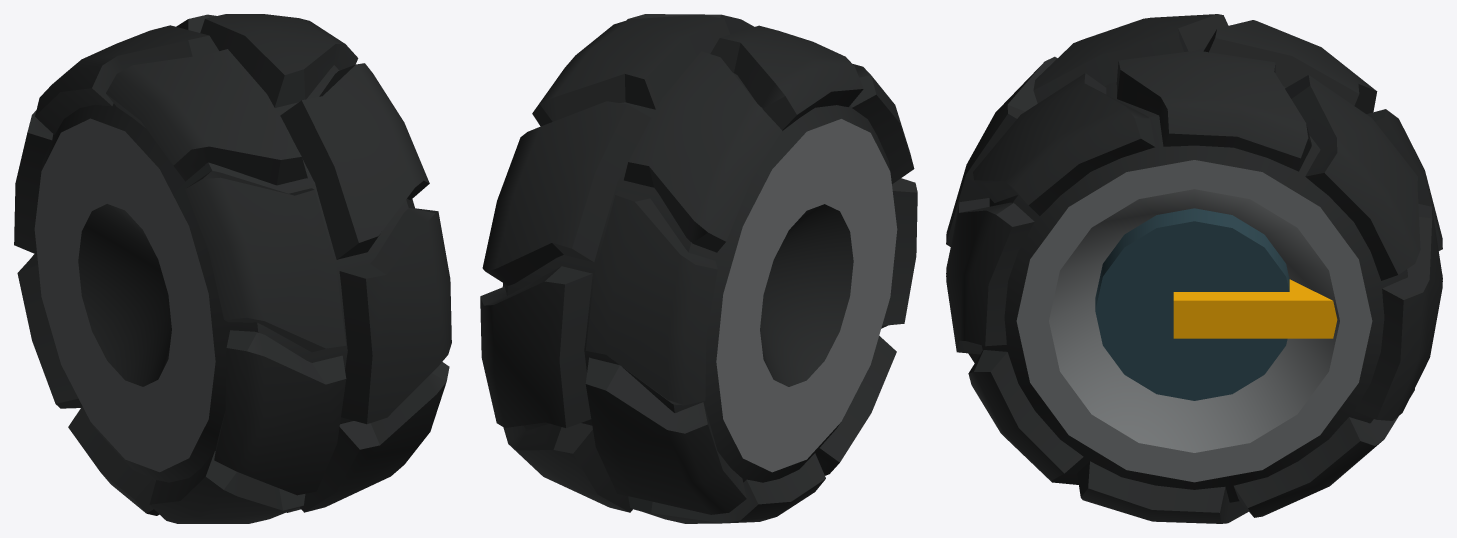
Rendered from Buggy_Wheel_004.fbx.
3 renders of one model, left to right at view 1: azimuth 30°, elevation 25°; view 2: azimuth 150°, elevation 25°; view 3: azimuth 270°, elevation 25°, orthographic.
Visible parts, largest first — view 1: Buggy_Wheel_004; view 2: Buggy_Wheel_004; view 3: Buggy_Wheel_004.
Part boxes in pixels (left/top/right/bottom): Buggy_Wheel_004: left=14, top=14, right=451, bottom=523; Buggy_Wheel_004: left=480, top=14, right=917, bottom=523; Buggy_Wheel_004: left=946, top=14, right=1442, bottom=523.
Size of the model in its own units: 73.98 by 144 by 144.
